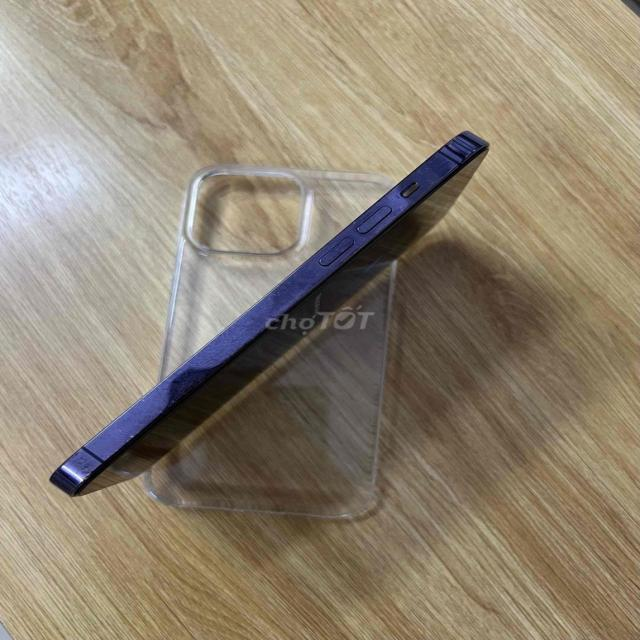gen_14: (54, 121, 498, 507)
